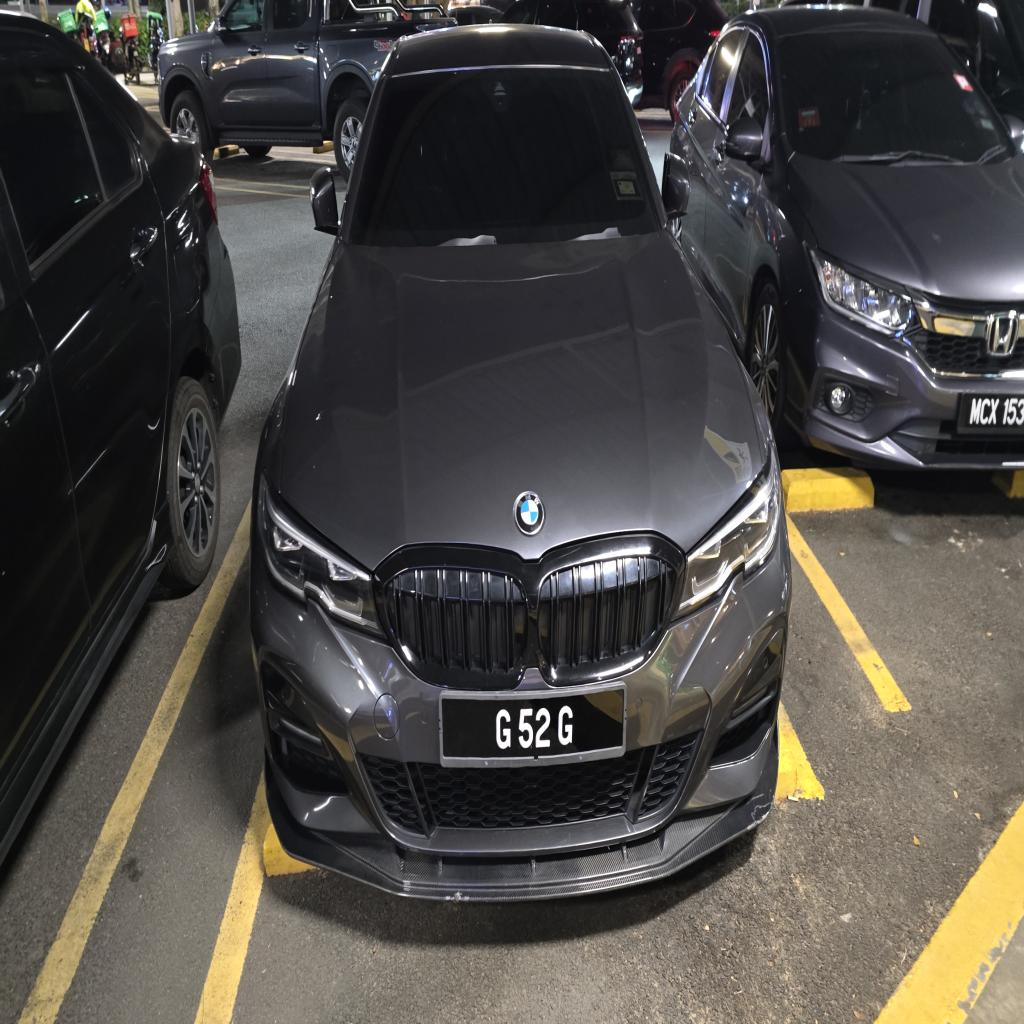car: (250, 25, 791, 899)
car plate: (440, 687, 624, 764)
